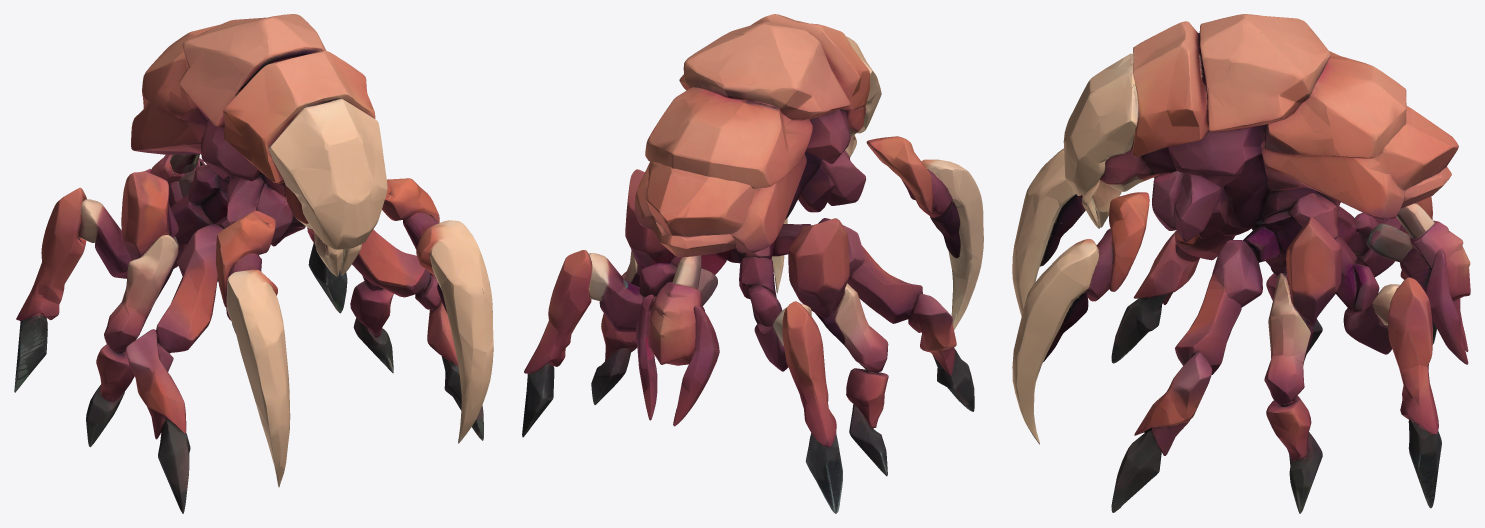
Rendered from inkcel_enemy.glb.
3 renders of one model, left to right at view 1: azimuth 30°, elevation 25°; view 2: azimuth 150°, elevation 25°; view 3: azimuth 270°, elevation 25°, orthographic. The views are drawn at different scales.
Bounding box in the file's own units: 1.6 × 1.9 × 1.87.
Materials: 1 (1 with a texture image).
